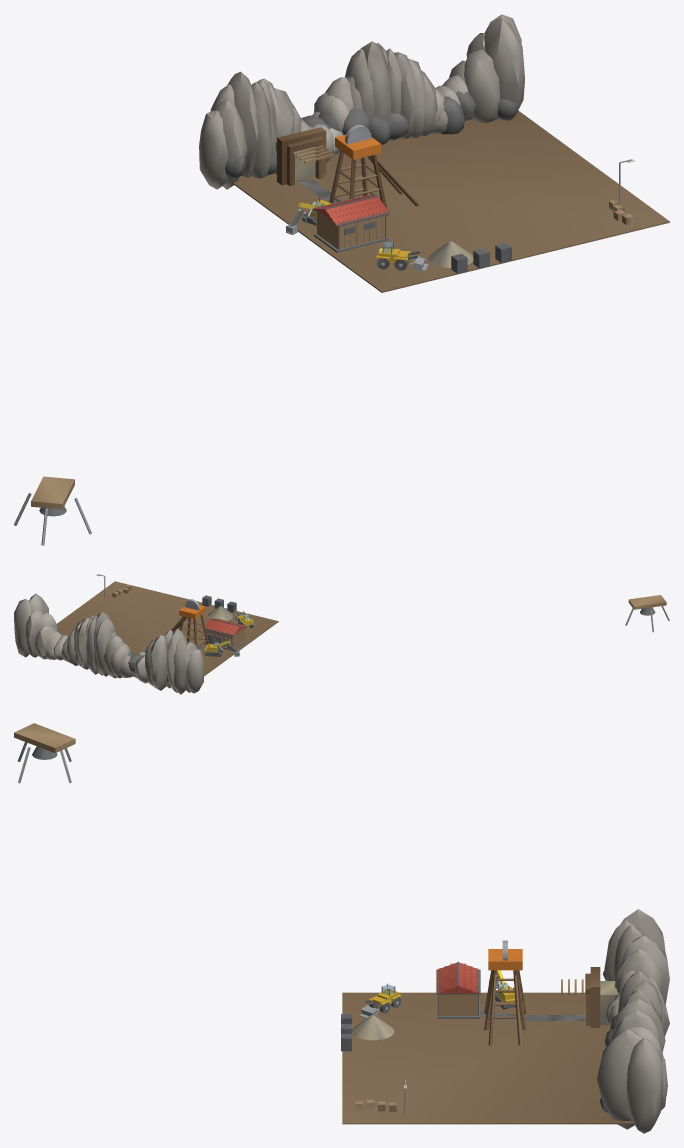
File: Mine_P1.fbx
3 renders of one model, top to bottom at view 1: azimuth 30°, elevation 25°; view 2: azimuth 150°, elevation 25°; view 3: azimuth 270°, elevation 25°, orthographic. The views are drawn at different scales.
Visible parts, largest first — view 1: Mine.Apron, Mine.Cliff, Mine.Winder, Mine.Headframe, Mine.Adit0, Mine.LoadGantry, Mine.Clutter, Mine.Loader; view 2: Mine.Cliff, Mine.Apron, Mine.Winder, Mine.Headframe, Mine.LoadGantry, Mine.Clutter, Mine.Excav, Mine.Spoil0; view 3: Mine.Apron, Mine.Cliff, Mine.Winder, Mine.Headframe, Mine.LoadGantry, Mine.Adit0, Mine.Loader, Mine.Clutter, Mine.Spoil0.
Boxes of the visible parts, x1,y1,x2,y2 form: Mine.Apron: (233,110,669,292); Mine.Cliff: (199,14,524,189); Mine.Winder: (313,195,389,252); Mine.Headframe: (329,125,419,215); Mine.Adit0: (274,127,335,185); Mine.LoadGantry: (14,476,91,545); Mine.Clutter: (451,199,633,273); Mine.Loader: (376,241,428,271); Mine.Cliff: (14,593,204,694); Mine.Apron: (57,581,278,676); Mine.Winder: (203,618,246,650); Mine.Headframe: (171,599,208,648); Mine.LoadGantry: (625,595,669,632); Mine.Clutter: (112,584,236,612); Mine.Excav: (204,640,240,656); Mine.Spoil0: (207,606,233,620); Mine.Apron: (342,992,633,1124); Mine.Cliff: (597,909,669,1133); Mine.Winder: (436,961,480,1018); Mine.Headframe: (484,940,526,1045); Mine.LoadGantry: (14,723,75,783); Mine.Adit0: (561,967,618,1027); Mine.Loader: (359,983,401,1018); Mine.Clutter: (341,1014,396,1111); Mine.Spoil0: (352,1015,394,1040).
Bounding box in the file's own units: 20430 × 2732 × 15285.
